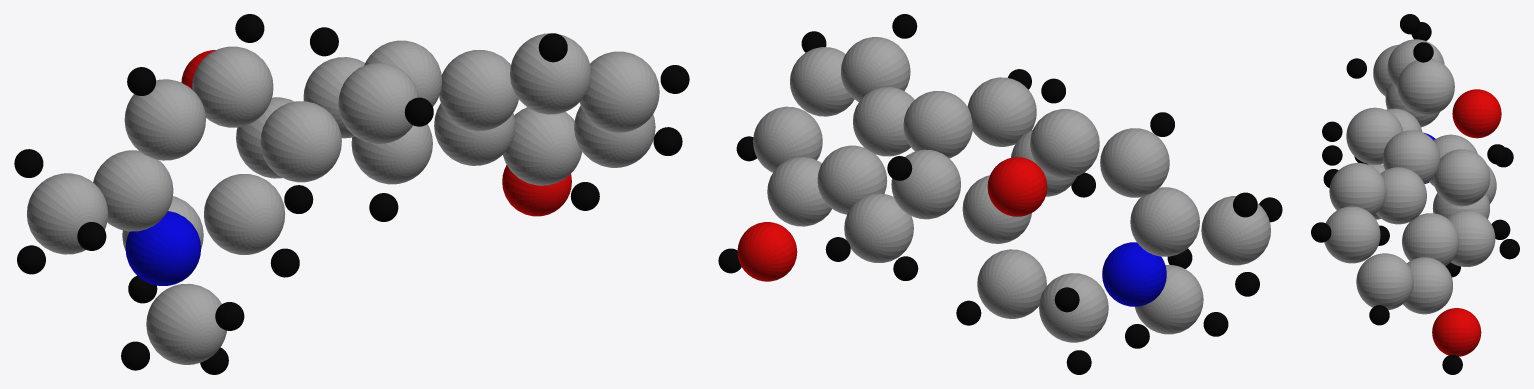
Rendered from Codeine.glb.
3 renders of one model, left to right at view 1: azimuth 30°, elevation 25°; view 2: azimuth 150°, elevation 25°; view 3: azimuth 270°, elevation 25°, orthographic. The views are drawn at different scales.
Visible parts, largest first — view 1: world; view 2: world; view 3: world.
Part boxes in pixels (bbox=[...]): world: bbox=[14, 14, 689, 374]; world: bbox=[718, 14, 1282, 374]; world: bbox=[1311, 14, 1519, 374].
Bounding box in the file's own units: 12.6 × 6.06 × 5.11.
